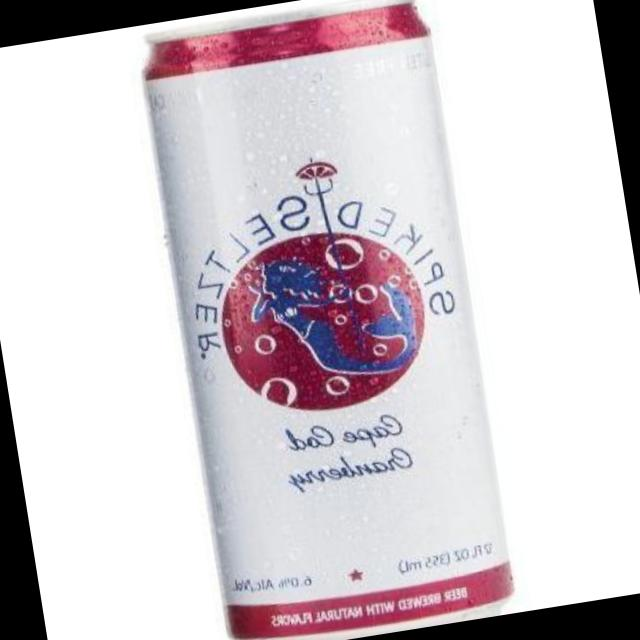metal: (146, 0, 513, 640)
